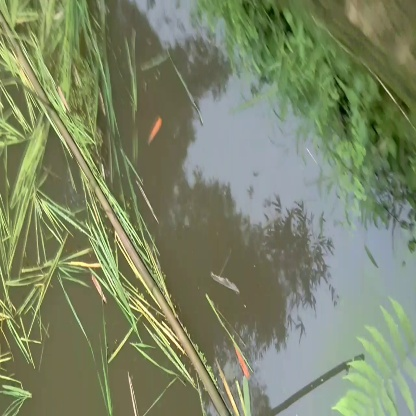branch: (15, 48, 231, 407)
